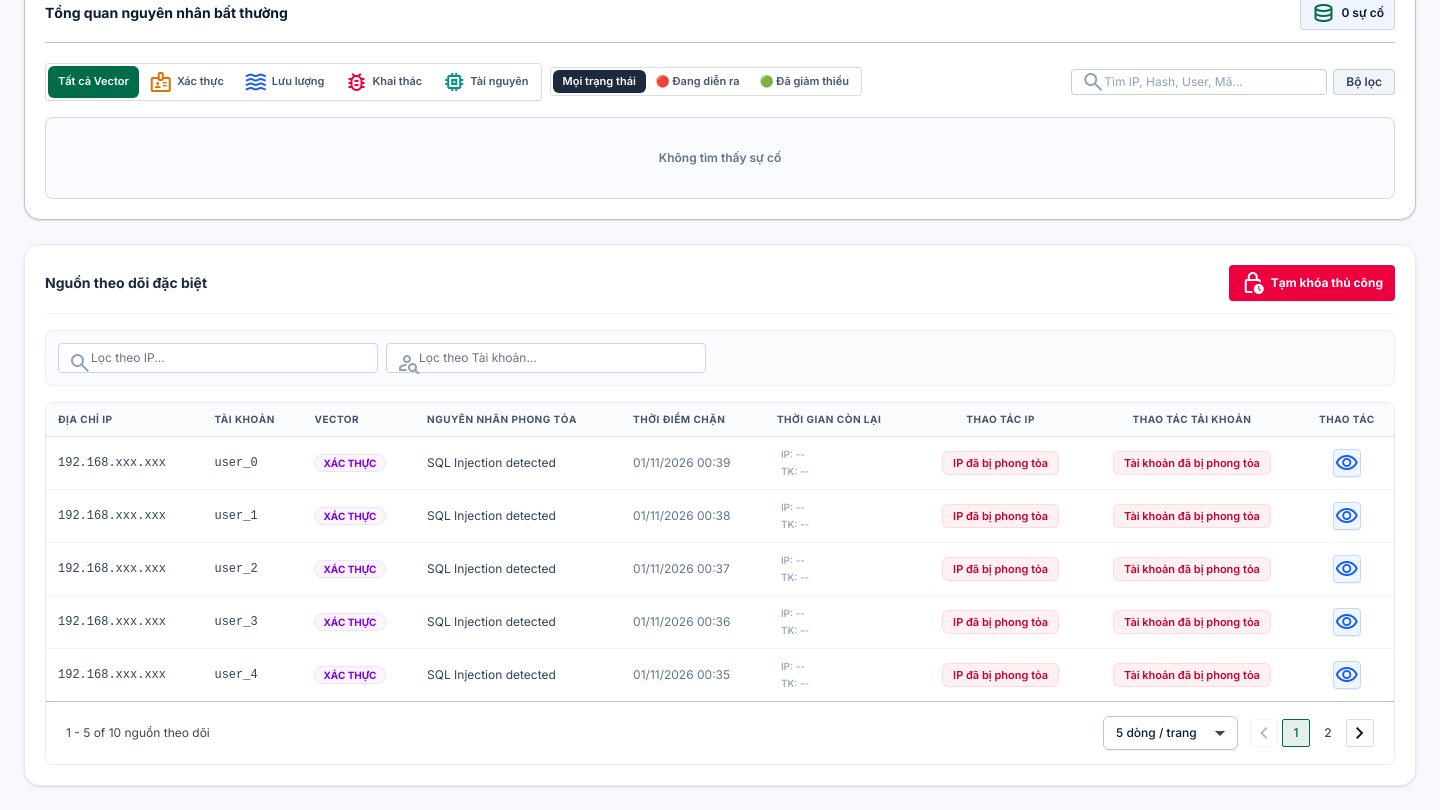
AIOps 16 Fixes & Quarantine Matrix 2-Tier Test Suite › ⚡ TẦNG 2: Quarantine Matrix Behavioral & System Impact Verification (Mục 16) › 16.7. Số lượng dòng hiển thị chính xác theo bộ lọc phân trang (5 dòng/trang hiển thị đúng 5 dòng)
(page scrolled)
Expected: the text "Tài khoản đã bị phong tỏa" is shown 5 times, [1113,451,1271,475]; [1113,504,1271,528]; [1113,557,1271,581]; [1113,610,1271,634]; [1113,663,1271,687]
# Đổi bộ lọc phân trang sang 10 dòng/trang
Select "10 dòng / trang" in the dropdown at (1170,733), box [1103,716,1238,750]
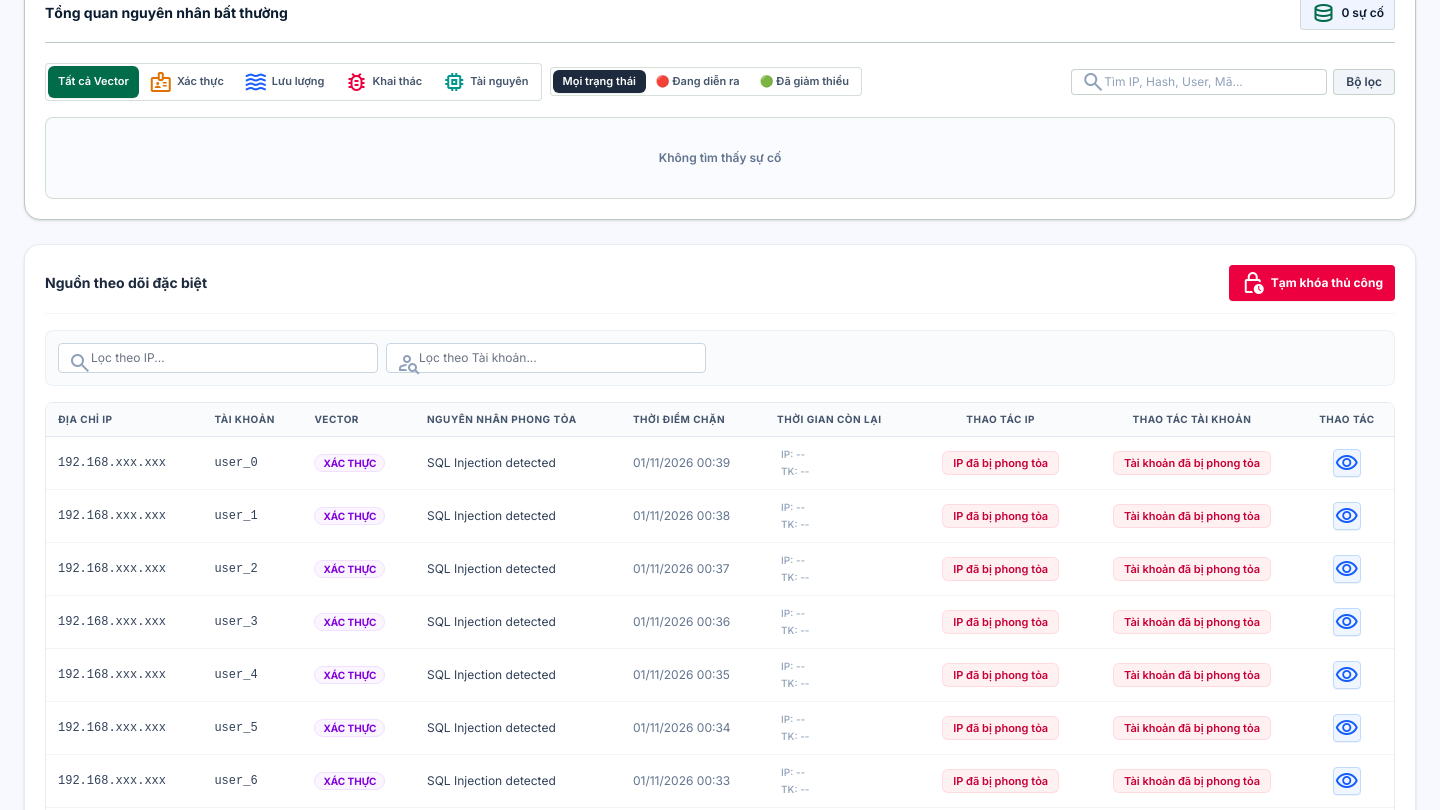
Expected: the text "Tài khoản đã bị phong tỏa" is shown 10 times
